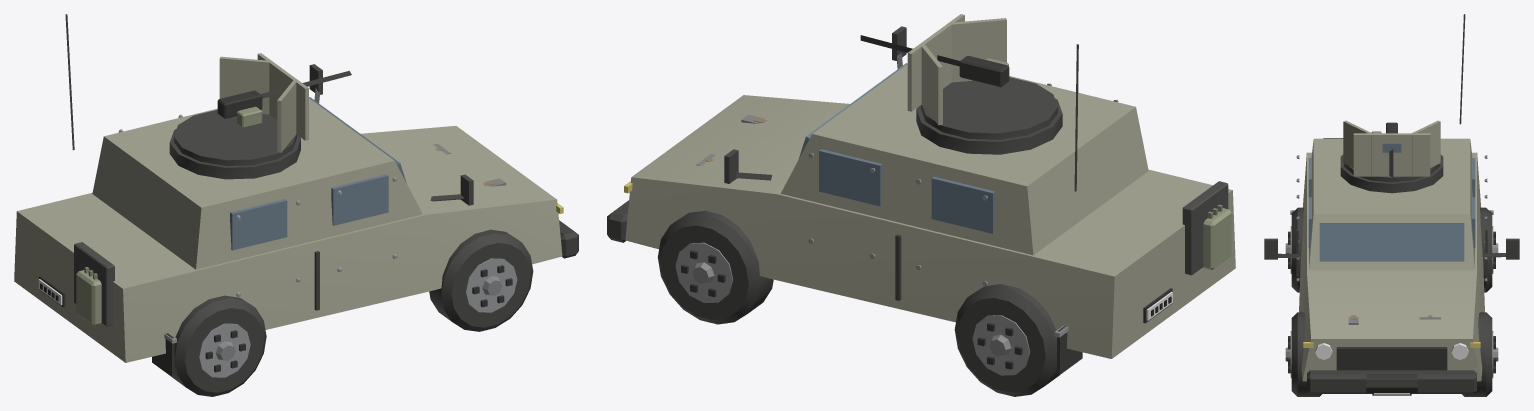
File: jeep.glb
The picture shows the model from 3 angles, left to right: view 1: azimuth 30°, elevation 25°; view 2: azimuth 150°, elevation 25°; view 3: azimuth 270°, elevation 25°; orthographic projection. The views are drawn at different scales.
Parts seen in each view (by area): view 1: hull, turret; view 2: hull, turret; view 3: hull, turret.
Boxes of the visible parts, x1,y1,x2,y2 form: hull: (14,14,578,396); turret: (174,53,351,165); hull: (607,26,1235,396); turret: (860,14,1057,139); hull: (1264,14,1519,396); turret: (1343,120,1440,182).
Size of the model in its own units: 5.25 by 3.29 by 3.
